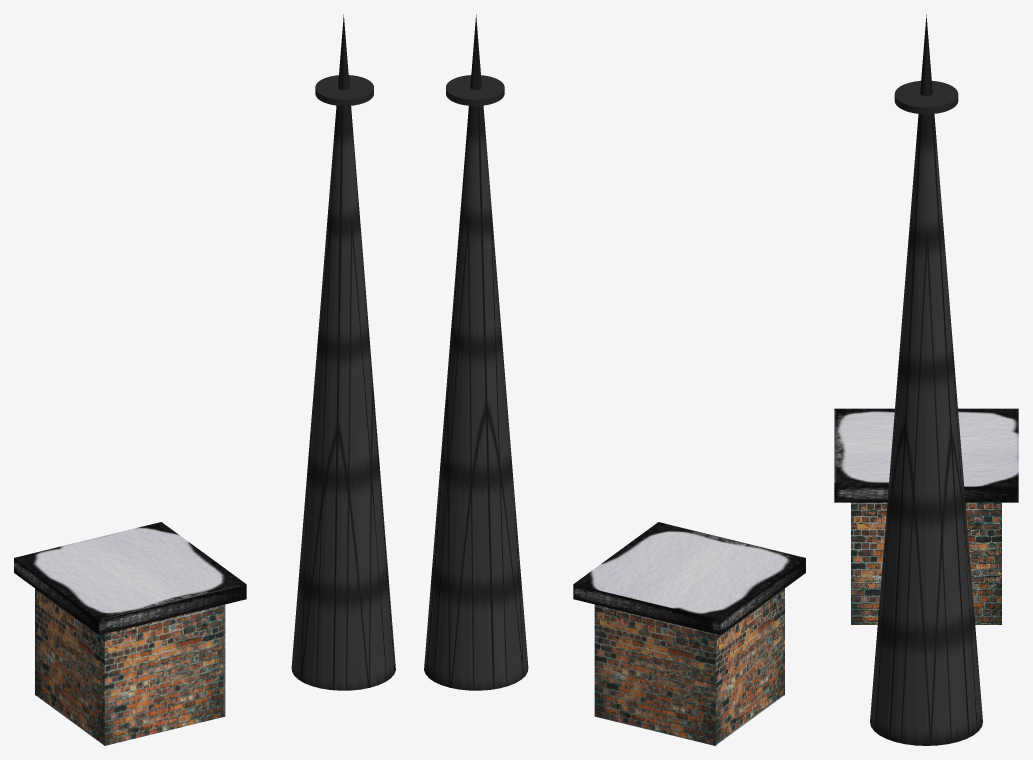
File: svyaz.fbx
3 views of the same model, side by side, from view 1: azimuth 30°, elevation 25°; view 2: azimuth 150°, elevation 25°; view 3: azimuth 270°, elevation 25° (orthographic). The views are drawn at different scales.
Visible parts, largest first — view 1: Конус, Cube, Cube.001, Цилиндр; view 2: Конус, Cube, Cube.001, Цилиндр; view 3: Конус, Cube.001, Cube, Цилиндр.
Boxes of the visible parts, left/top/right/bottom form: Конус: left=291, top=14, right=395, bottom=690; Cube: left=35, top=588, right=225, bottom=745; Cube.001: left=14, top=522, right=246, bottom=634; Цилиндр: left=315, top=75, right=373, bottom=105; Конус: left=424, top=14, right=528, bottom=690; Cube: left=594, top=588, right=784, bottom=745; Cube.001: left=573, top=522, right=805, bottom=634; Цилиндр: left=446, top=75, right=504, bottom=105; Конус: left=870, top=14, right=982, bottom=745; Cube.001: left=834, top=408, right=1018, bottom=502; Cube: left=851, top=502, right=1001, bottom=624; Цилиндр: left=894, top=80, right=958, bottom=114.
Bounding box in the file's own units: 389 × 732 × 173.
Materials: 4 (3 with a texture image).
